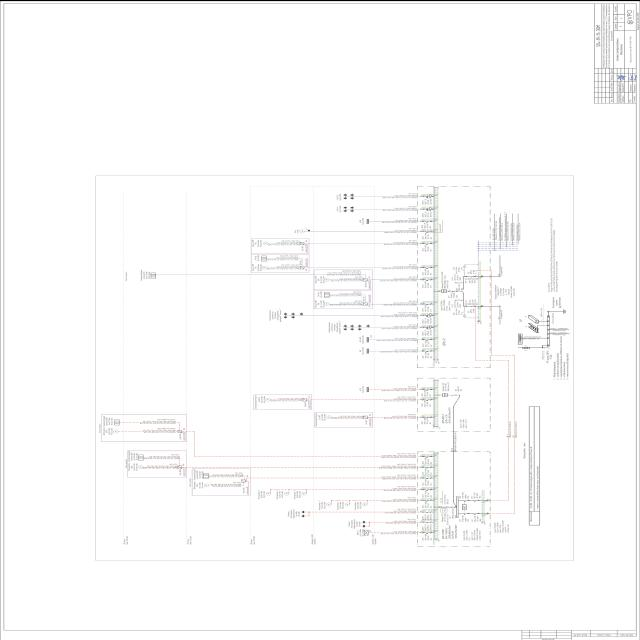-: (441, 270, 449, 288), (424, 350, 432, 358), (424, 280, 432, 288), (424, 316, 432, 324), (424, 339, 432, 346), (424, 210, 432, 217), (424, 328, 432, 335), (424, 304, 432, 311), (424, 221, 432, 228), (455, 266, 463, 273), (424, 244, 432, 251), (424, 197, 432, 204), (424, 268, 432, 275), (454, 300, 462, 306), (424, 232, 432, 238), (450, 291, 458, 297), (455, 308, 463, 314), (454, 274, 462, 280), (470, 268, 476, 274), (469, 306, 475, 312), (442, 337, 446, 345), (458, 284, 463, 290)
HL: (462, 314, 467, 316), (462, 265, 467, 267)
OPS: (456, 298, 462, 300), (456, 280, 462, 282)
PA: (474, 277, 478, 279), (474, 302, 478, 304), (468, 302, 471, 304), (468, 277, 471, 279), (471, 277, 474, 279), (471, 302, 474, 304)
PV: (464, 277, 468, 279), (464, 302, 468, 304)
QF: (425, 349, 429, 352), (424, 220, 430, 222), (424, 230, 430, 232), (426, 338, 430, 340), (425, 278, 429, 280), (425, 302, 429, 304), (451, 290, 455, 292), (425, 242, 429, 244), (425, 266, 429, 268), (463, 310, 465, 312), (463, 268, 465, 270)
QFD: (426, 324, 432, 328), (426, 312, 432, 316), (425, 206, 431, 210), (426, 194, 432, 198)
QS: (469, 275, 473, 277), (469, 304, 473, 306)
WH: (441, 288, 447, 292)
switch: (460, 288, 464, 292)
